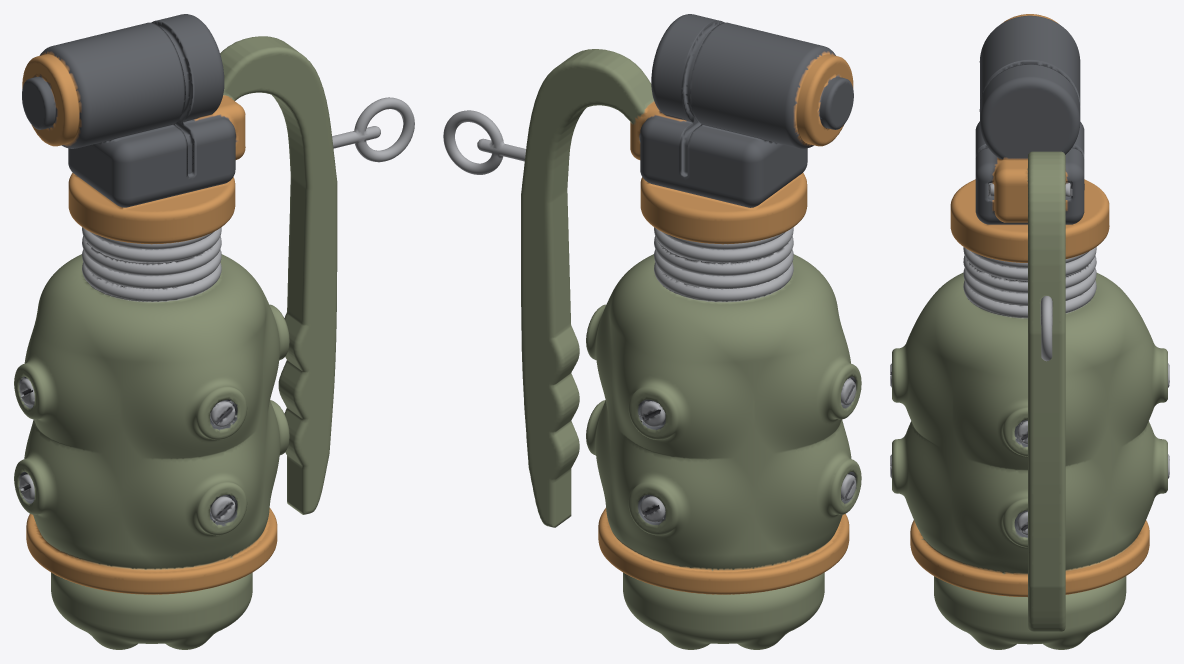
File: Grenade sci-fi.glb
3 renders of one model, left to right at view 1: azimuth 30°, elevation 25°; view 2: azimuth 150°, elevation 25°; view 3: azimuth 270°, elevation 25°, orthographic. The views are drawn at different scales.
Visible parts, largest first — view 1: Grenade sci-fi; view 2: Grenade sci-fi; view 3: Grenade sci-fi.
Part boxes in pixels (x1,y1,x2,y2): Grenade sci-fi: (14,14,414,649); Grenade sci-fi: (443,14,861,649); Grenade sci-fi: (890,14,1169,649).
Size of the model in its own units: 0.1048 by 0.1495 by 0.0669.
